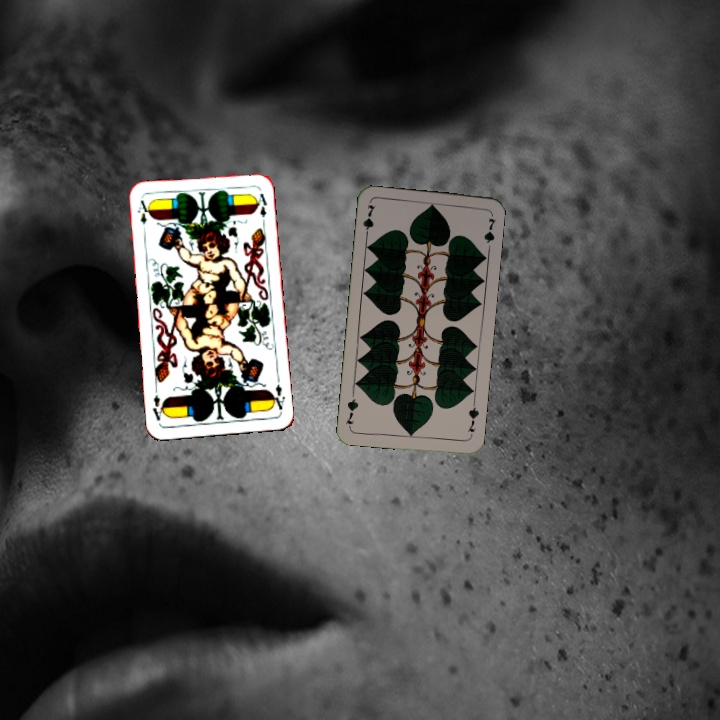EA: (267, 380, 288, 414), (133, 196, 150, 227)
G7: (359, 201, 378, 241), (464, 399, 482, 435)
